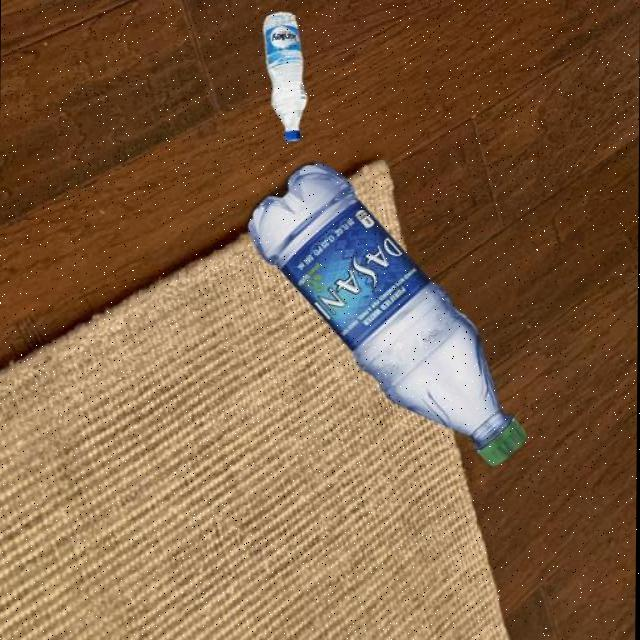bottle: (245, 158, 532, 468), (260, 10, 310, 141)
